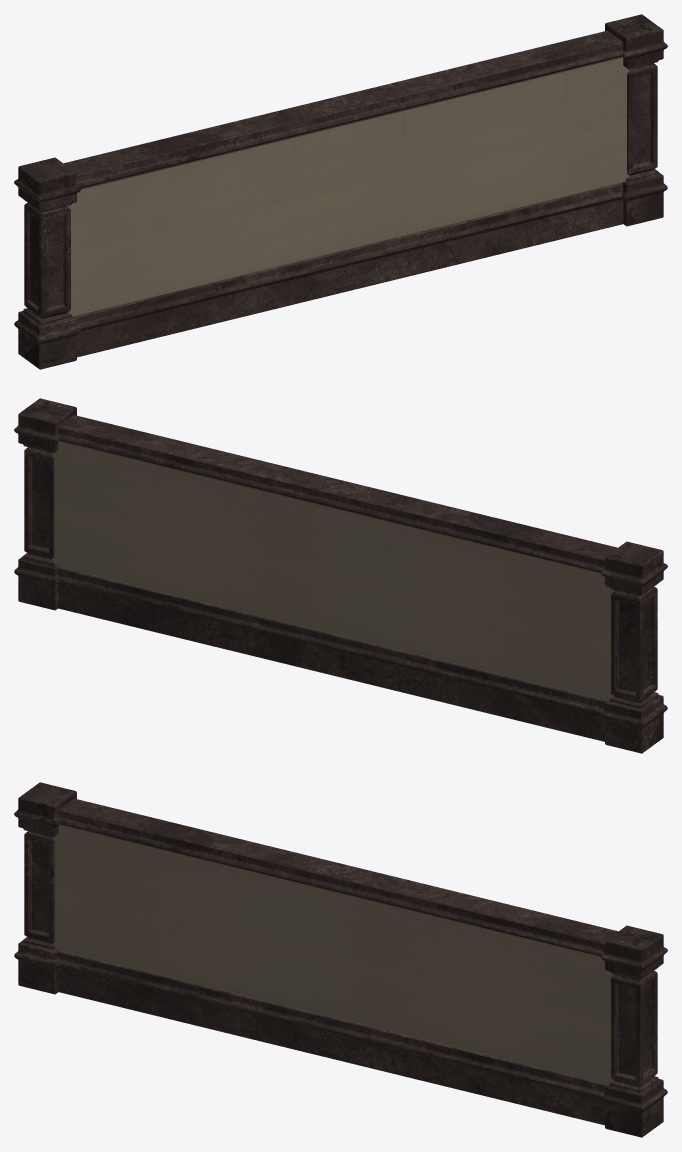
The model's file is SK2 RAILING LONG.fbx.
The picture shows the model from 3 angles, top to bottom: view 1: azimuth 30°, elevation 25°; view 2: azimuth 150°, elevation 25°; view 3: azimuth 330°, elevation 25°; orthographic projection.
Parts seen in each view (by area): view 1: SK2 RAILING LONG; view 2: SK2 RAILING LONG; view 3: SK2 RAILING LONG.
Part boxes in pixels (x1,y1,x2,y2): SK2 RAILING LONG: (14, 14, 667, 369); SK2 RAILING LONG: (14, 398, 667, 753); SK2 RAILING LONG: (14, 782, 667, 1137).
Size of the model in its own units: 399 by 114 by 27.43.
